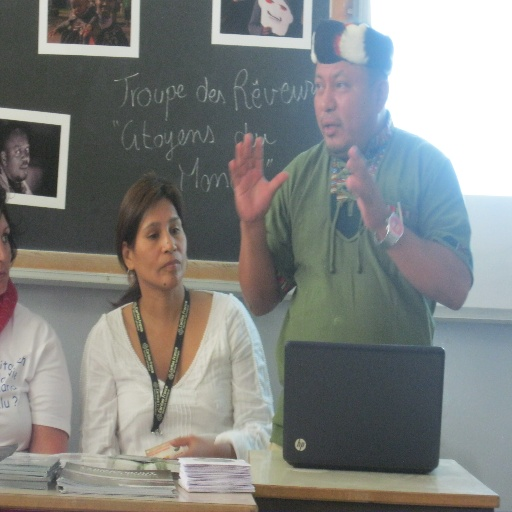hand: (224, 123, 284, 235), (345, 144, 388, 231), (169, 432, 207, 459), (261, 23, 271, 37), (48, 26, 57, 41), (84, 25, 91, 39)
